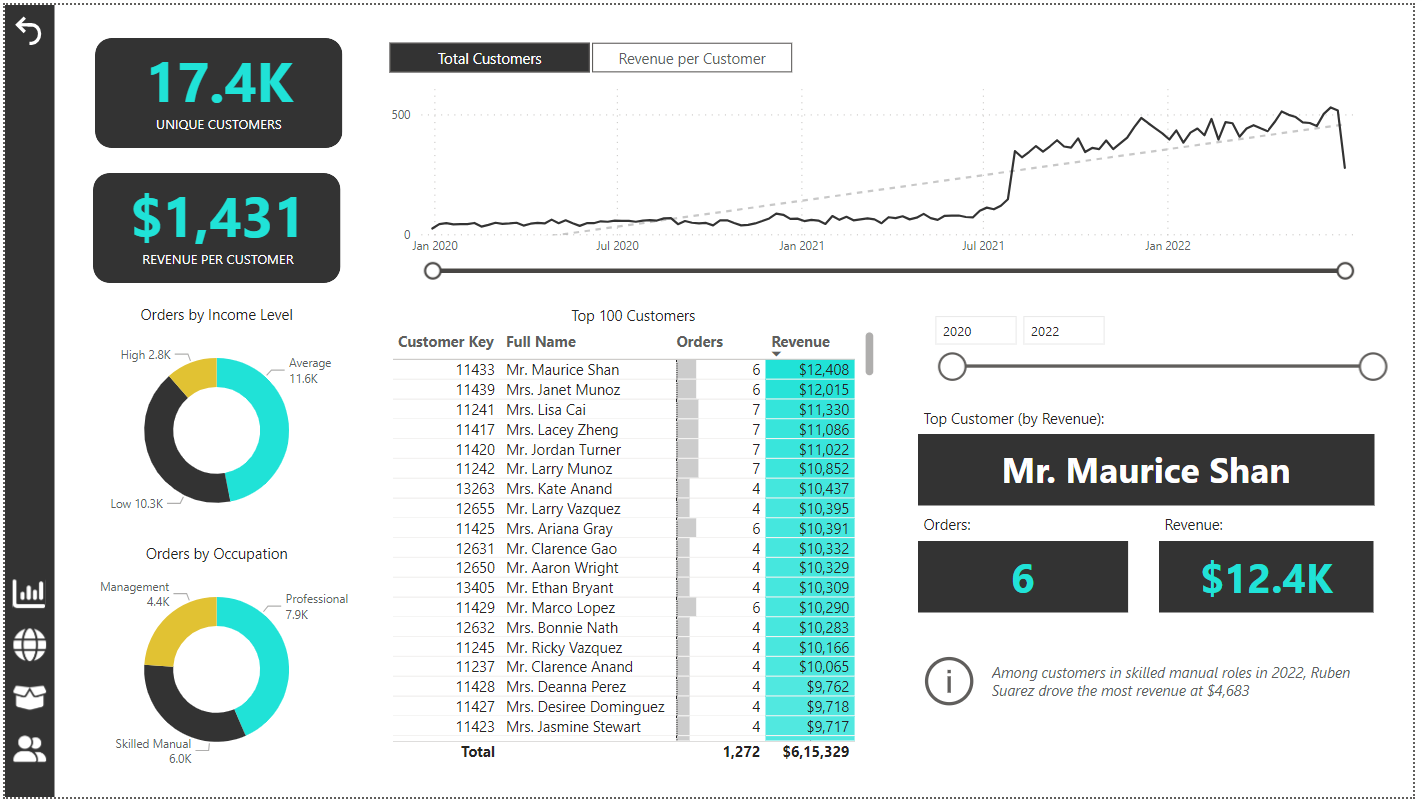

This screenshot's page, from the dashboard's own definition file:
{"tool":"powerbi","page":{"name":"Customer Detail","canvas":[1280,720],"ordinal":3},"visuals":[{"type":"shape","box":[0,0,45,720],"z":0},{"type":"actionButton","box":[2.5,516.7,45.6,37.8],"z":0,"group":"g1"},{"type":"shape","box":[81.7,30,225,100],"z":1000},{"type":"actionButton","box":[3.3,563.4,45.6,37.8],"z":1000,"group":"g1"},{"type":"actionButton","box":[3.3,611.1,45.6,37.8],"z":2000,"group":"g1"},{"type":"shape","box":[80,152.7,225,100],"z":2000},{"type":"card","fields":{"Values":["Measure Table.Total Customers"]},"box":[66.7,0,256.2,150],"z":3000},{"type":"actionButton","box":[3.3,657.8,45.6,37.8],"z":3000,"group":"g1"},{"type":"card","fields":{"Values":["Measure Table.Average Revenue per Customer"]},"box":[65,122.7,256.2,150],"z":4000},{"type":"lineChart","fields":{"Y":["Measure Table.Total Customers"],"Category":["Calendar Lookup.Date Hierarchy.Year","Calendar Lookup.Date Hierarchy.Start of Month","Calendar Lookup.Date Hierarchy.Start of Week","Calendar Lookup.Date Hierarchy.Date"]},"box":[345.9,63.3,898.6,188.8],"z":5000},{"type":"donutChart","title":"Orders by Income Level","fields":{"Category":["Customer Lookup.Income Level"],"Y":["Measure Table.Total Orders"]},"box":[63.8,272.5,257.5,210],"z":6000},{"type":"donutChart","title":"Orders by Occupation","fields":{"Y":["Measure Table.Total Orders"],"Category":["Customer Lookup.Occupation"]},"box":[63.8,490,257.5,210],"z":7000},{"type":"tableEx","title":"Top 100 Customers","fields":{"Values":["Customer Lookup.CustomerKey","Customer Lookup.Full Name","Measure Table.Total Orders","Measure Table.Total Revenue"]},"box":[346,273.6,449.4,418.4],"z":8000},{"type":"card","fields":{"Values":["Min(Customer Lookup.Full Name)"]},"box":[829.6,390.1,414.5,65.1],"z":9000},{"type":"card","fields":{"Values":["Measure Table.Total Orders"]},"box":[829.6,487,190.7,65.1],"z":10000},{"type":"card","fields":{"Values":["Measure Table.Total Revenue"]},"box":[1048.7,487,195.4,65.1],"z":11000},{"type":"textbox","box":[829.6,361.7,190.7,37.9],"z":12000},{"type":"textbox","box":[829.6,458.4,190.7,37.9],"z":13000},{"type":"textbox","box":[1048.7,458.4,190.7,37.9],"z":14000},{"type":"slicer","fields":{"Values":["Calendar Lookup.Year"]},"box":[811.6,272.4,432.9,80.3],"z":15000},{"type":"actionButton","box":[830,586.7,410,56.7],"z":16000},{"type":"actionButton","box":[3.3,5.6,35.6,35.6],"z":17000},{"type":"group","id":"g1","title":"Navigation Buttons","box":[2.5,516.7,46.4,178.9],"z":18000},{"type":"slicer","fields":{"Values":["Customer Metric Selection.Customer Metric Selection"]},"box":[323.3,27.1,415.9,36.2],"z":19000}]}

Visuals, with their boxes on the page's 1280x720 design canvas (x1, y1, x2, y2). These are canvas units, not pixel positions in the 1422x804 screenshot, which may show the page scaled, cropped or inside an application window:
shape: (left=0, top=0, right=45, bottom=720)
actionButton: (left=2, top=517, right=48, bottom=554)
shape: (left=82, top=30, right=307, bottom=130)
actionButton: (left=3, top=563, right=49, bottom=601)
actionButton: (left=3, top=611, right=49, bottom=649)
shape: (left=80, top=153, right=305, bottom=253)
card - Measure Table.Total Customers: (left=67, top=0, right=323, bottom=150)
actionButton: (left=3, top=658, right=49, bottom=696)
card - Measure Table.Average Revenue per Customer: (left=65, top=123, right=321, bottom=273)
lineChart - Measure Table.Total Customers x Calendar Lookup.Date Hierarchy.Year: (left=346, top=63, right=1244, bottom=252)
"Orders by Income Level" donutChart: (left=64, top=272, right=321, bottom=482)
"Orders by Occupation" donutChart: (left=64, top=490, right=321, bottom=700)
"Top 100 Customers" tableEx: (left=346, top=274, right=795, bottom=692)
card - Min(Customer Lookup.Full Name): (left=830, top=390, right=1244, bottom=455)
card - Measure Table.Total Orders: (left=830, top=487, right=1020, bottom=552)
card - Measure Table.Total Revenue: (left=1049, top=487, right=1244, bottom=552)
textbox: (left=830, top=362, right=1020, bottom=400)
textbox: (left=830, top=458, right=1020, bottom=496)
textbox: (left=1049, top=458, right=1239, bottom=496)
slicer - Calendar Lookup.Year: (left=812, top=272, right=1244, bottom=353)
actionButton: (left=830, top=587, right=1240, bottom=643)
actionButton: (left=3, top=6, right=39, bottom=41)
"Navigation Buttons" group: (left=2, top=517, right=49, bottom=696)
slicer - Customer Metric Selection.Customer Metric Selection: (left=323, top=27, right=739, bottom=63)
